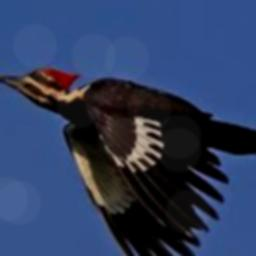Woodpecker: (0, 66, 256, 256)
